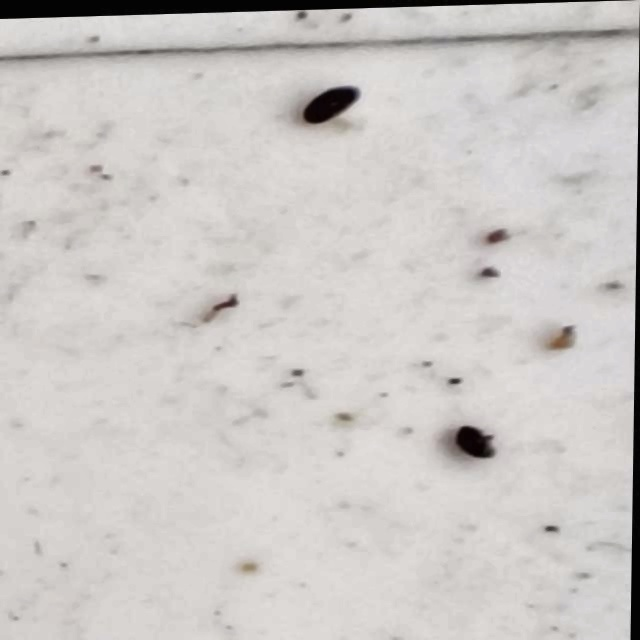varroa: (300, 84, 361, 125), (455, 424, 499, 462)
